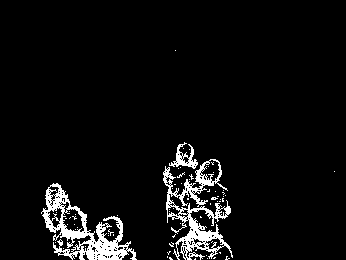person: (173, 209, 232, 260), (162, 141, 197, 223), (189, 158, 231, 223), (86, 214, 141, 259), (51, 207, 94, 257), (42, 182, 69, 229)
